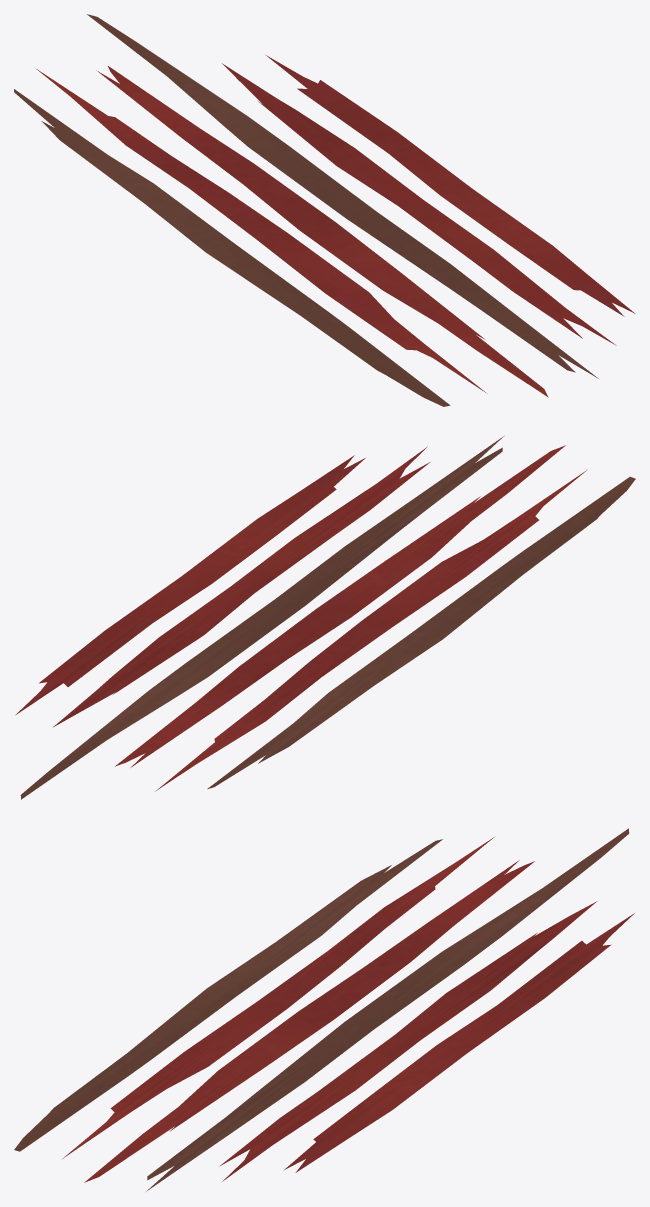
Rendered from blood_heel_scuff.glb.
3 views of the same model, one above another, from view 1: azimuth 30°, elevation 25°; view 2: azimuth 150°, elevation 25°; view 3: azimuth 330°, elevation 25° (orthographic).
Parts seen in each view (by area): view 1: blood_heel_scuff; view 2: blood_heel_scuff; view 3: blood_heel_scuff.
Part boxes in pixels (x1,y1,x2,y2): blood_heel_scuff: (14,14,635,406); blood_heel_scuff: (15,435,635,799); blood_heel_scuff: (14,828,634,1191).
Bounding box in the file's own units: 0.1268 × 0.0003 × 0.4169.
2 materials, 2 textured.
